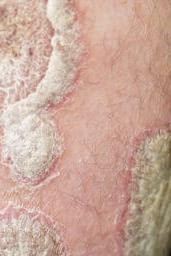plaque psoriasis: (0, 132, 171, 256), (0, 0, 87, 194), (103, 132, 171, 256)
